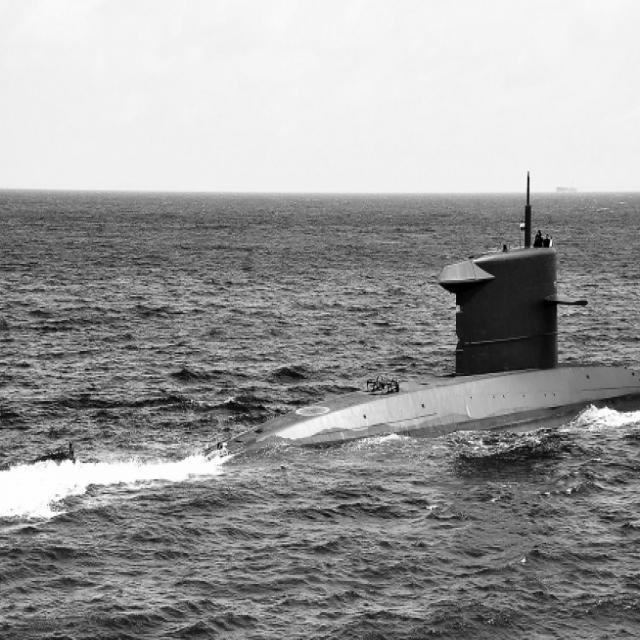submarine: (53, 249, 640, 488)
